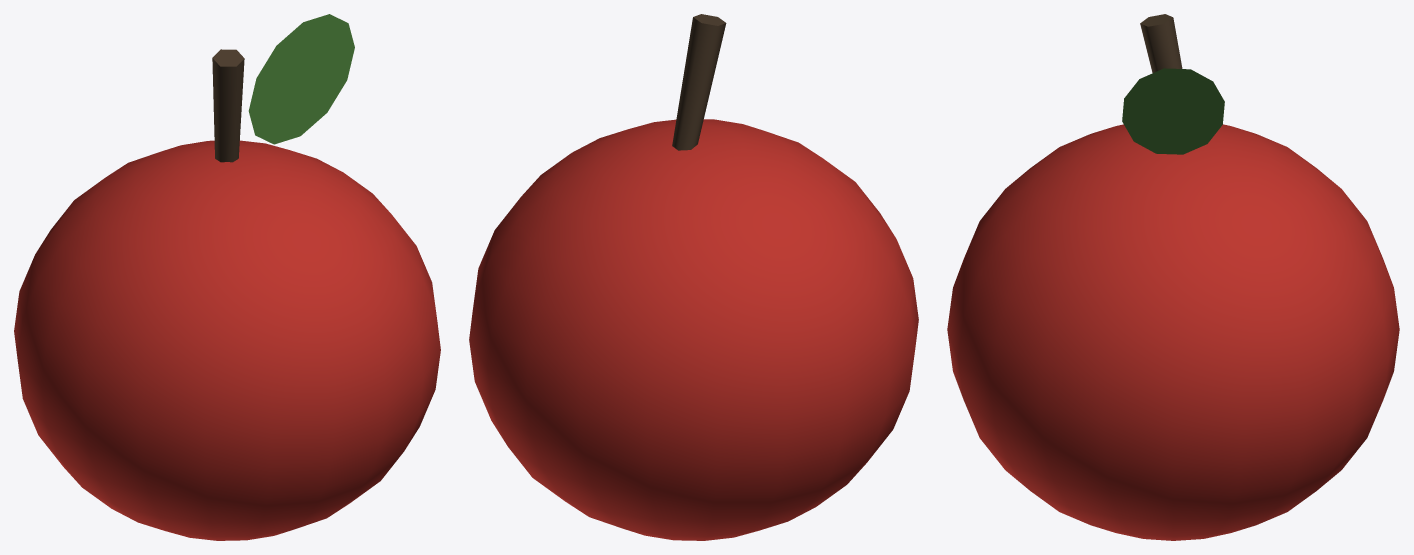
The model's file is apple.glb.
The picture shows the model from 3 angles, left to right: view 1: azimuth 30°, elevation 25°; view 2: azimuth 150°, elevation 25°; view 3: azimuth 270°, elevation 25°; orthographic projection. The views are drawn at different scales.
Parts seen in each view (by area): view 1: body, leaf, stem; view 2: body, stem; view 3: body, leaf, stem.
Boxes of the visible parts, x1,y1,x2,y2 form: body: [14, 140, 440, 540]; leaf: [248, 14, 354, 144]; stem: [212, 49, 244, 162]; body: [469, 119, 918, 540]; stem: [672, 14, 726, 150]; body: [947, 124, 1399, 540]; leaf: [1122, 68, 1224, 154]; stem: [1140, 14, 1182, 72].
Size of the model in its own units: 0.08 by 0.097 by 0.08.
